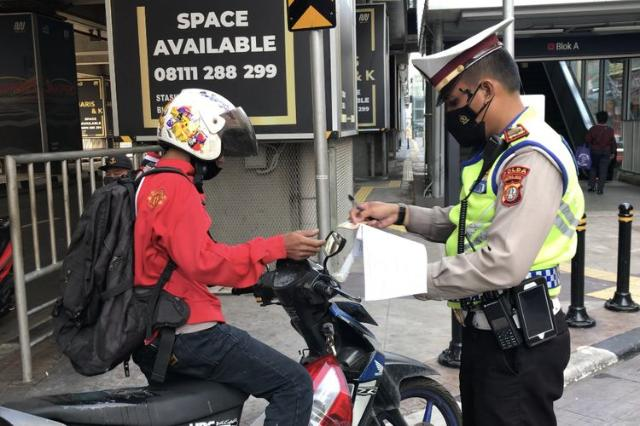helm: (158, 87, 256, 178)
motor: (1, 228, 463, 426)
